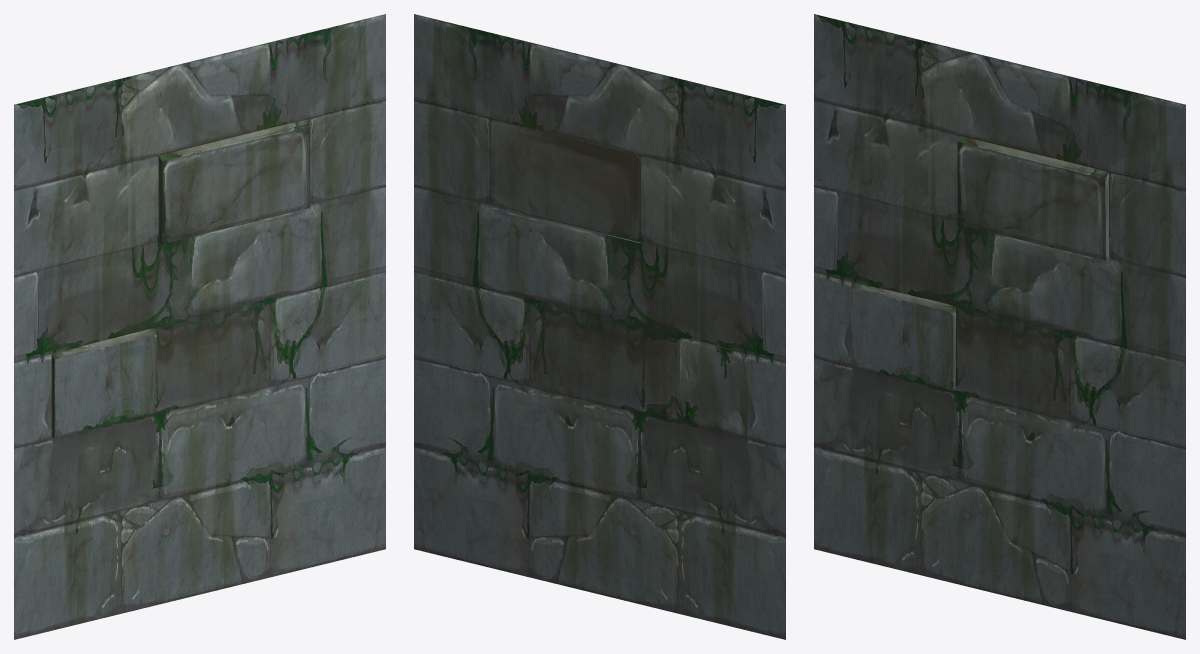
File: stemple_wall_straight_03.fbx
The picture shows the model from 3 angles, left to right: view 1: azimuth 30°, elevation 25°; view 2: azimuth 150°, elevation 25°; view 3: azimuth 330°, elevation 25°; orthographic projection.
Visible parts, largest first — view 1: obj1.047; view 2: obj1.047; view 3: obj1.047.
Part boxes in pixels (x1,y1,x2,y2): obj1.047: (14,14,385,639); obj1.047: (414,14,785,639); obj1.047: (814,14,1185,639).
Size of the model in its own units: 4 by 5.5 by 0.0541.
